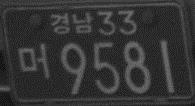1: (158, 37, 176, 95)
3: (116, 9, 138, 36), (95, 9, 115, 36)
5: (91, 40, 121, 95)
8: (123, 40, 152, 94)
9: (59, 42, 87, 95)
경남_O: (49, 11, 93, 35)
머: (17, 42, 51, 81)
